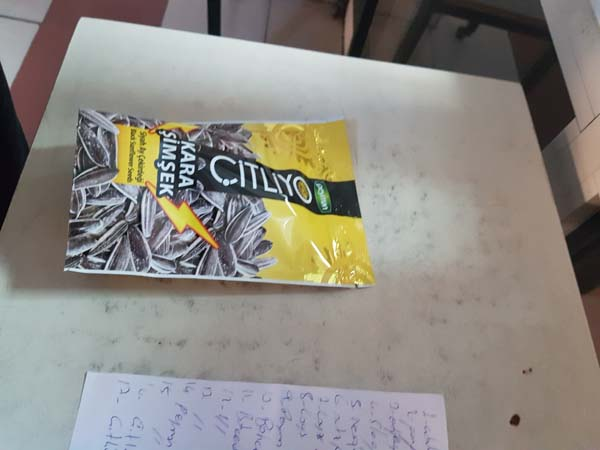citliyokarasimsek: (61, 103, 381, 294)
